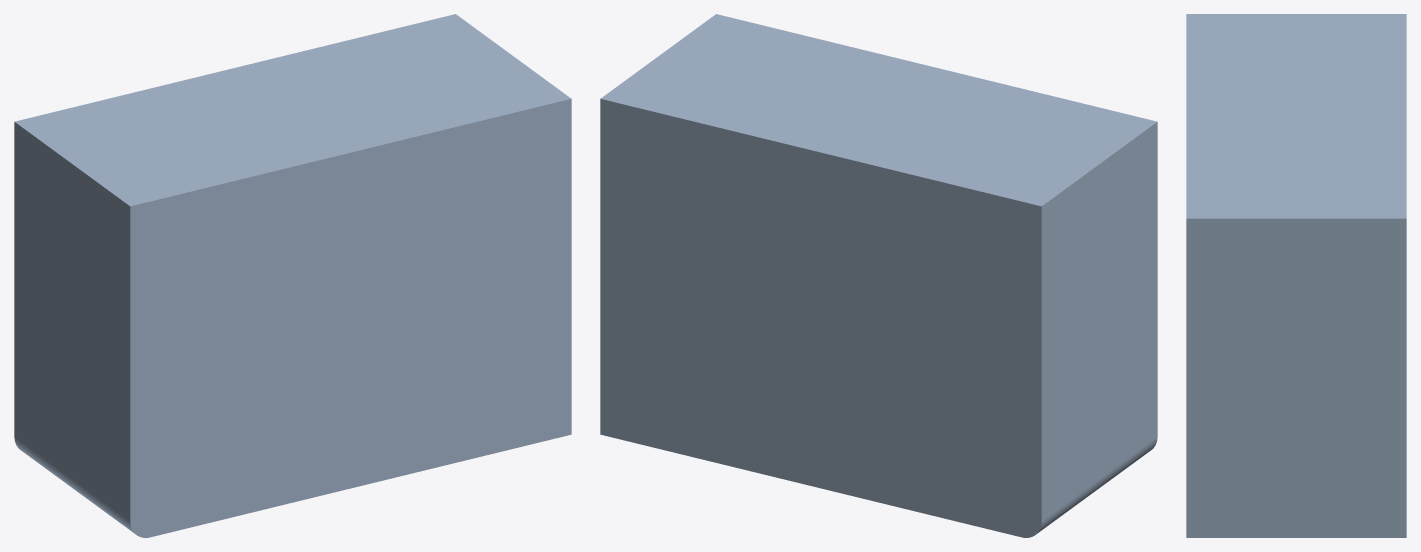
The model's file is editor-fixture.glb.
3 renders of one model, left to right at view 1: azimuth 30°, elevation 25°; view 2: azimuth 150°, elevation 25°; view 3: azimuth 270°, elevation 25°, orthographic. The views are drawn at different scales.
Visible parts, largest first — view 1: 编辑器候选验收; view 2: 编辑器候选验收; view 3: 编辑器候选验收.
Boxes of the visible parts, x1,y1,x2,y2 form: 编辑器候选验收: (14, 14, 571, 537); 编辑器候选验收: (600, 14, 1157, 537); 编辑器候选验收: (1186, 14, 1406, 537).
Size of the model in its own units: 22 by 16 by 10.
